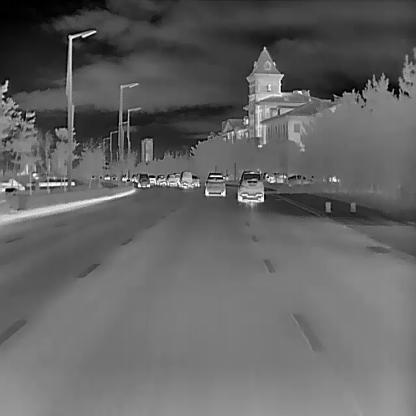car: (237, 169, 264, 201), (204, 171, 226, 195), (286, 174, 310, 184), (136, 171, 149, 187), (179, 171, 191, 187), (165, 172, 176, 186), (190, 173, 199, 185), (156, 173, 165, 185), (147, 173, 156, 184)
